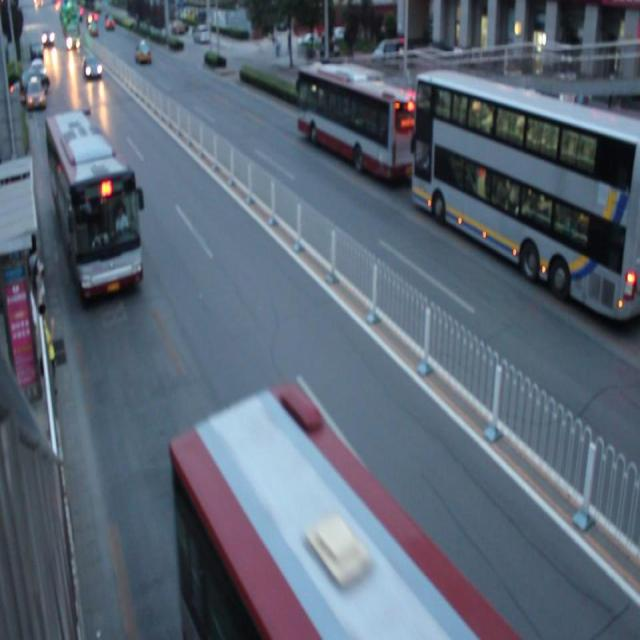car: (26, 77, 46, 109)
van: (172, 391, 504, 640), (412, 67, 640, 322), (45, 112, 143, 296), (298, 60, 418, 182)
